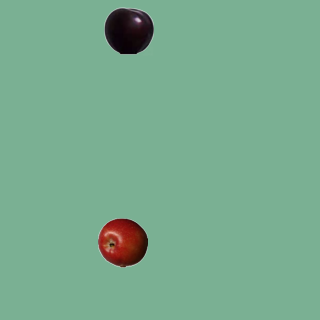Apple Braeburn: (97, 217, 147, 267)
Cherry Wax Black: (103, 5, 153, 55)
